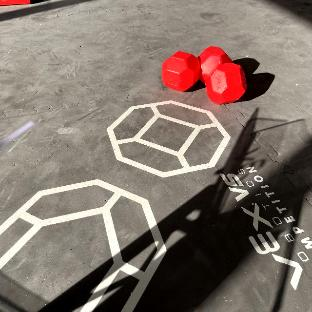V5_RED: (162, 46, 246, 104)
